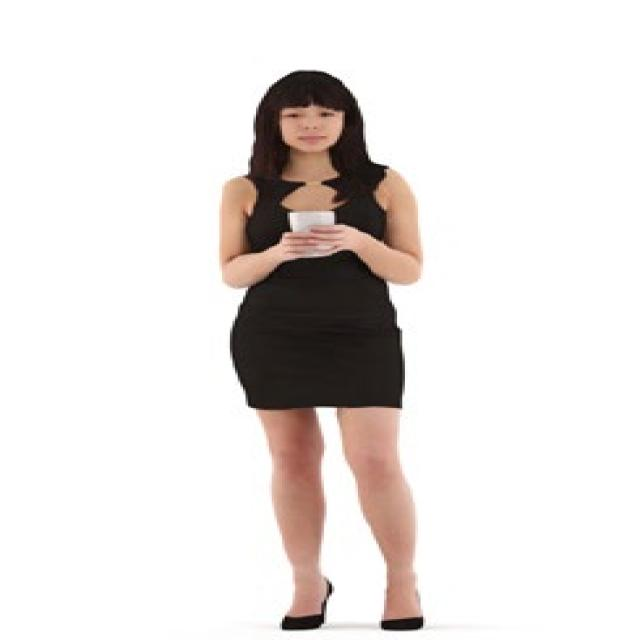standing: (210, 67, 423, 640)
